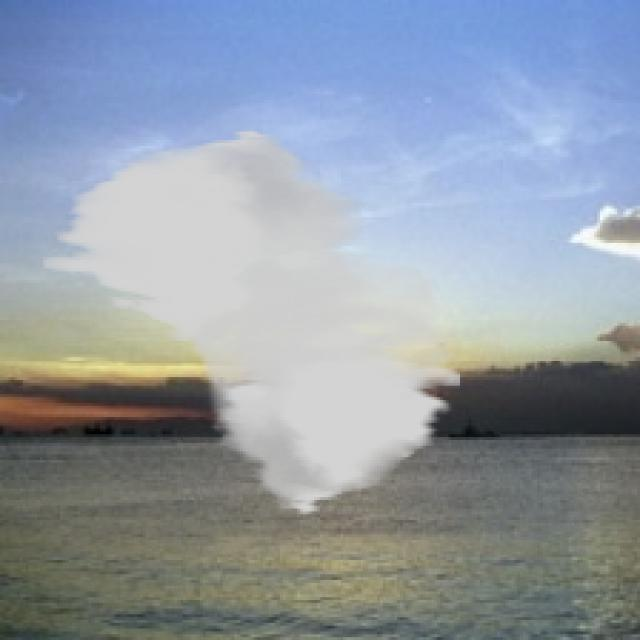smoke: (43, 129, 463, 517)
